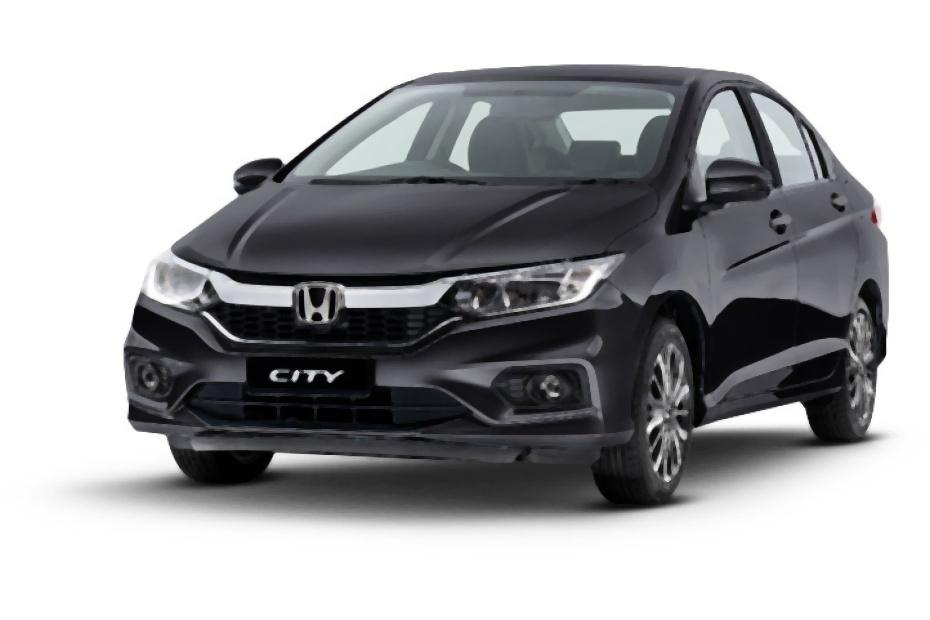Car hood: (168, 179, 664, 288)
Fender - -F-L-: (594, 177, 714, 397)
Front bumper: (121, 295, 642, 467)
Headlight - -L-: (440, 251, 627, 324)
Headlight - -R-: (136, 250, 218, 316)
Passenger-s door - -F-L-: (676, 58, 809, 432)
Passenger-s door - -R-L-: (732, 60, 862, 420)
Side bumper - -L-: (689, 345, 855, 441)
Side mirror - -L-: (674, 157, 780, 230)
Side mirror - -R-: (228, 155, 287, 193)
